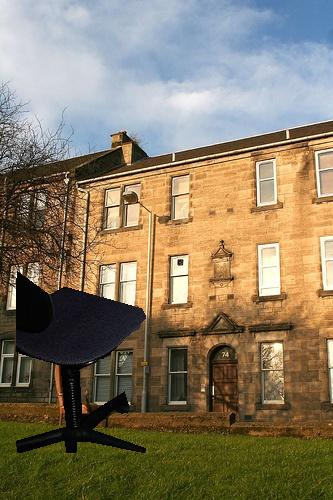tampered: (17, 272, 146, 453)
